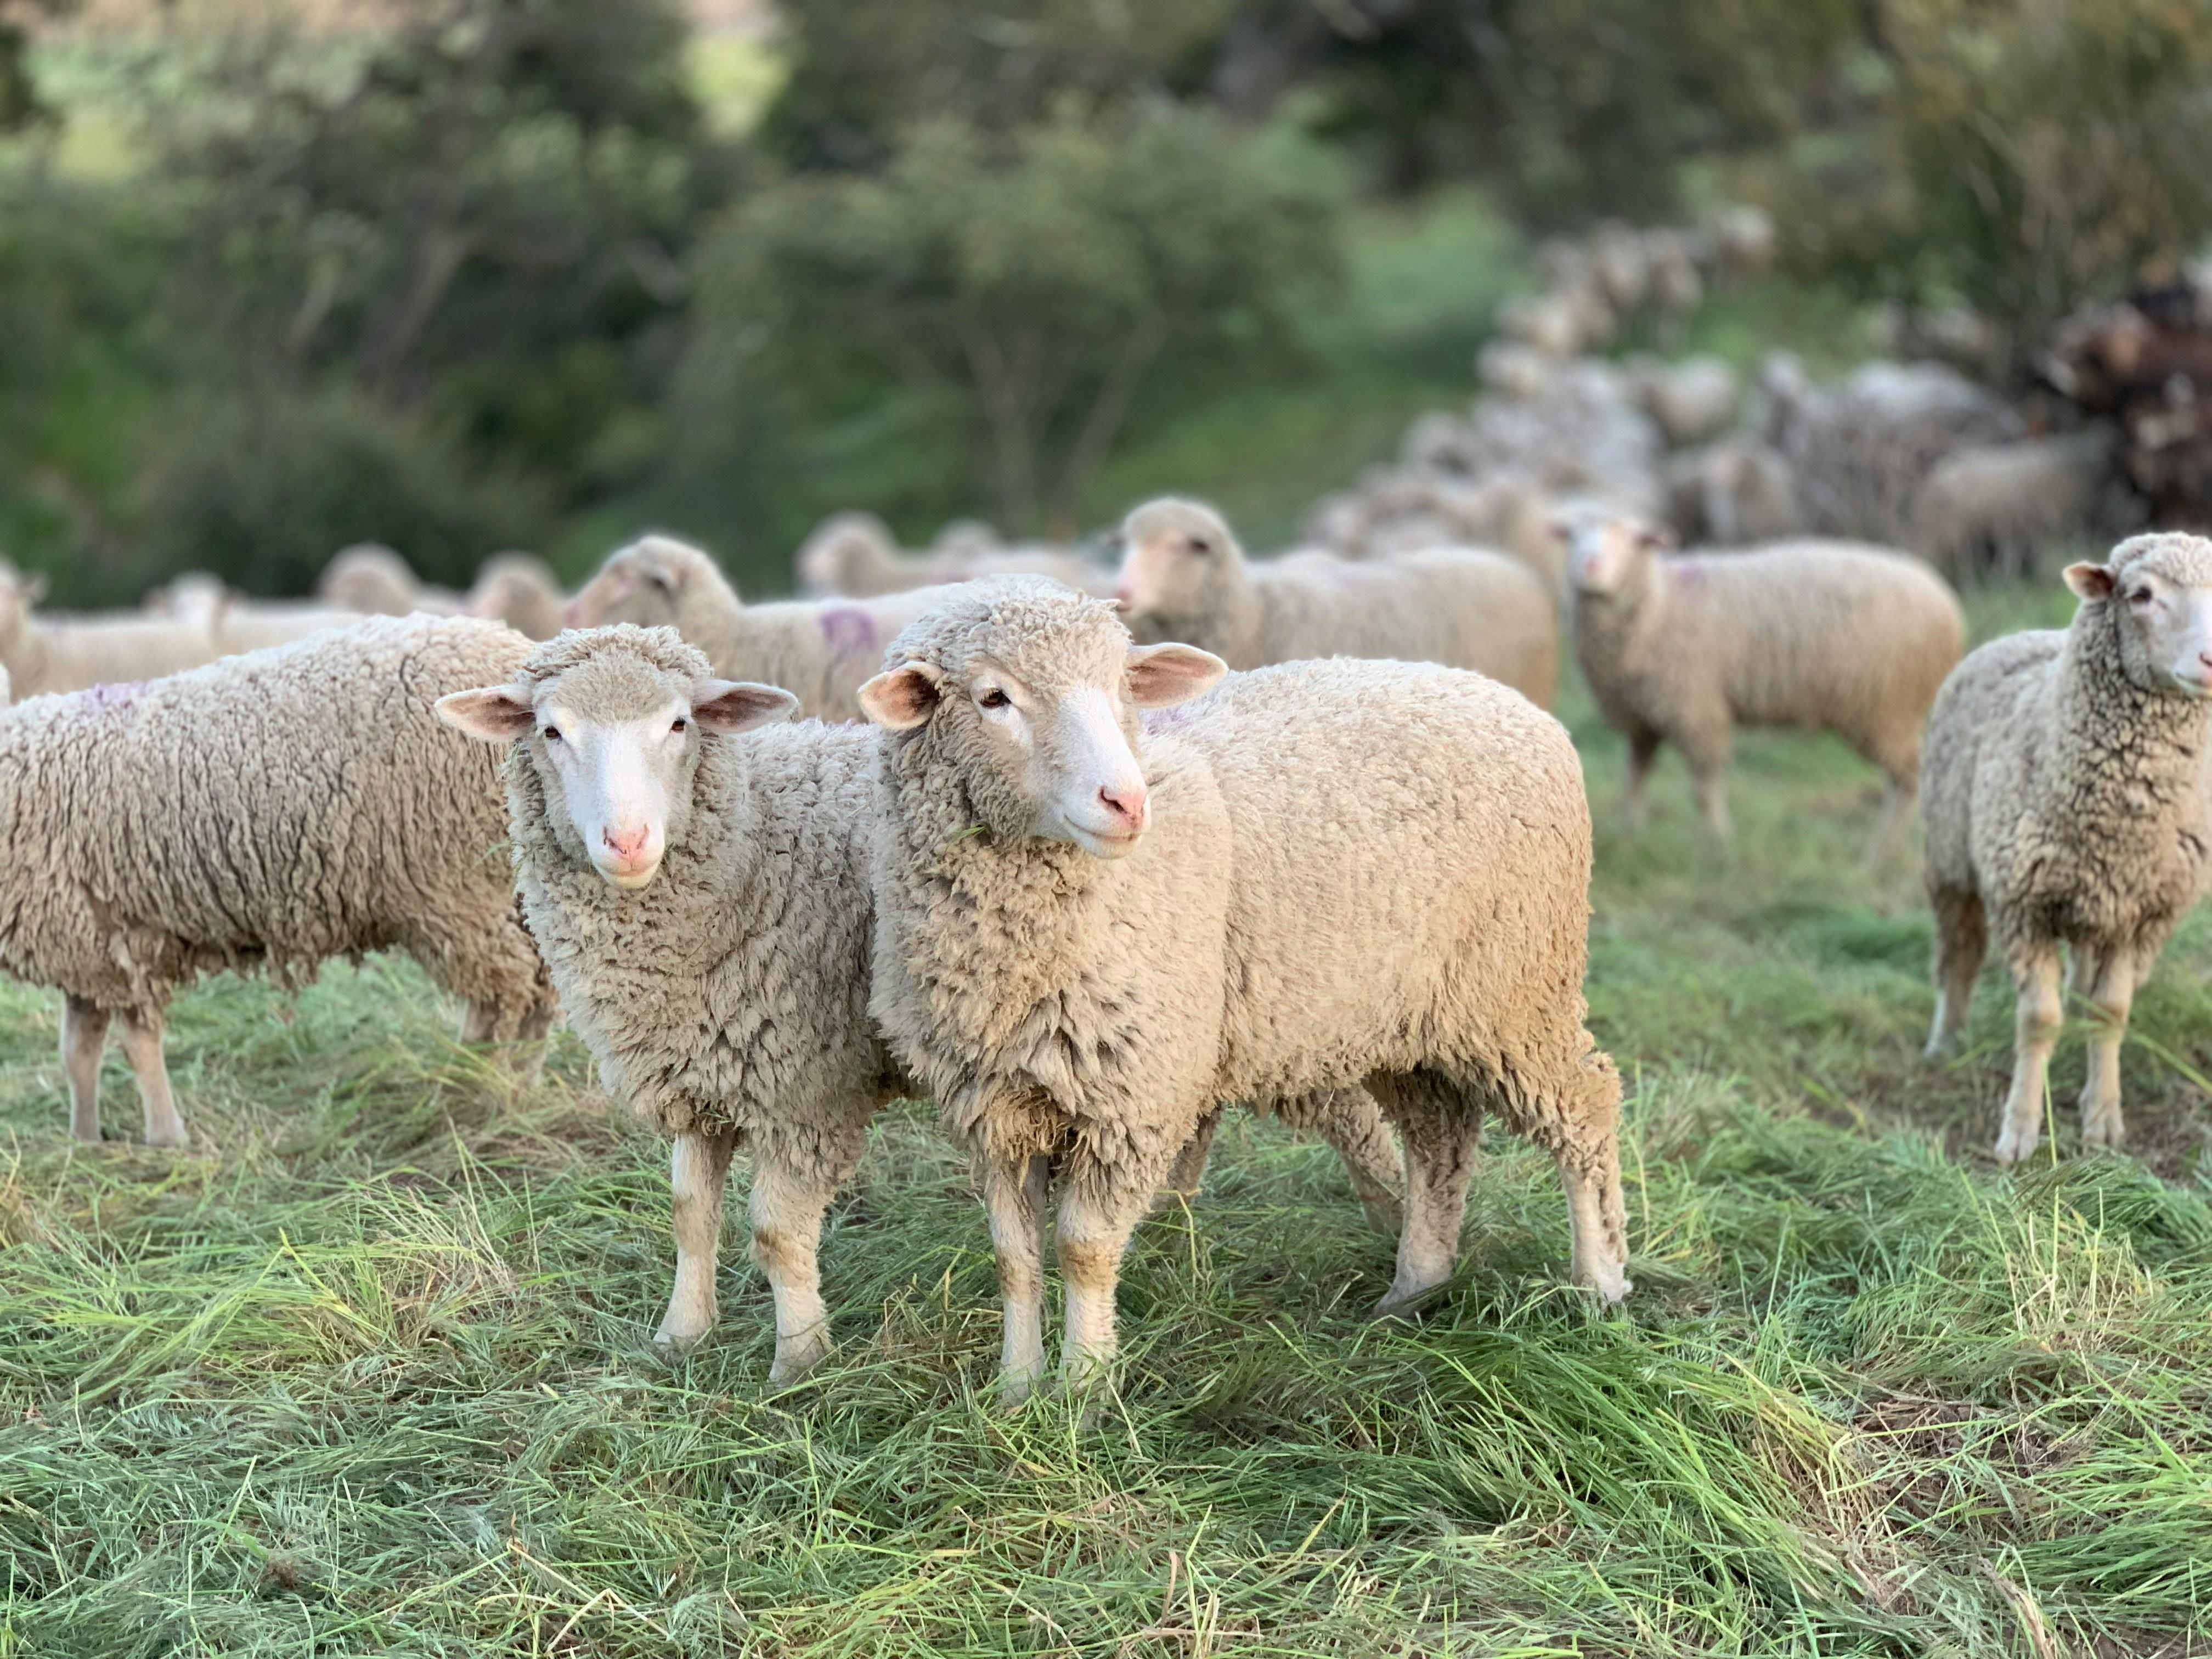sheep: (853, 573, 1629, 1410), (433, 620, 875, 1391), (0, 612, 560, 1149), (1912, 532, 2212, 1171), (1555, 507, 1970, 826), (1103, 499, 1561, 735), (565, 535, 955, 719)
